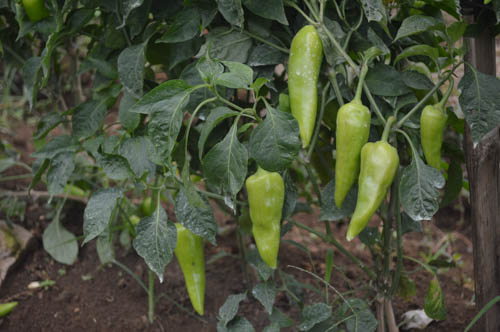ChiliPepper: (350, 140, 396, 246), (288, 28, 322, 149), (330, 105, 367, 209), (246, 172, 284, 268), (171, 225, 207, 315), (423, 103, 451, 176)
